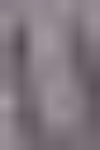U: (0, 0, 99, 149)
